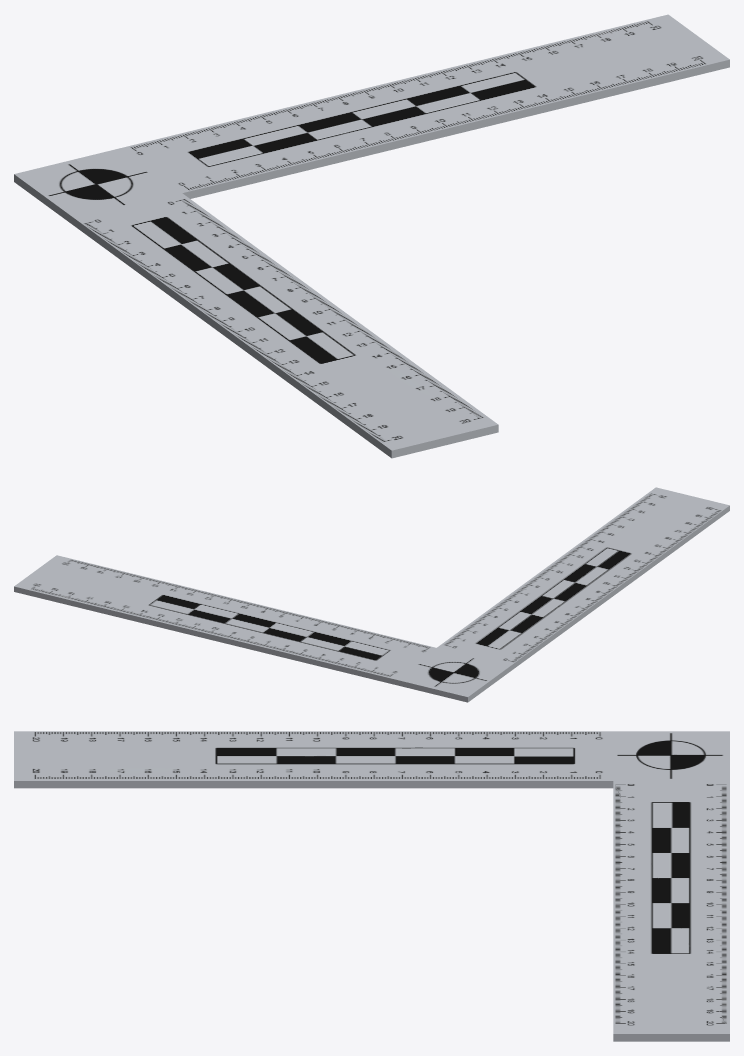
The model's file is ruler_01.fbx.
3 renders of one model, top to bottom at view 1: azimuth 30°, elevation 25°; view 2: azimuth 150°, elevation 25°; view 3: azimuth 270°, elevation 25°, orthographic. The views are drawn at different scales.
Parts seen in each view (by area): view 1: ruler_01; view 2: ruler_01; view 3: ruler_01.
Boxes of the visible parts, <box> form: ruler_01: <box>14,14,729,458</box>; ruler_01: <box>14,487,729,702</box>; ruler_01: <box>14,731,729,1041</box>.
Bounding box in the file's own units: 74.28 × 0.8482 × 74.28.
